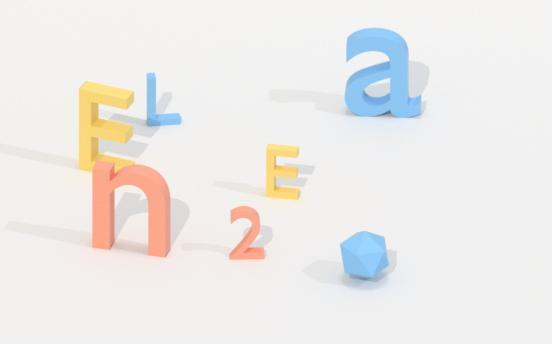chu_khoi: (92, 160, 170, 256), (344, 28, 420, 116), (79, 81, 133, 170), (146, 73, 181, 126), (266, 144, 299, 198)
da_giac: (340, 231, 388, 278)
so_khoi: (229, 206, 264, 259)
